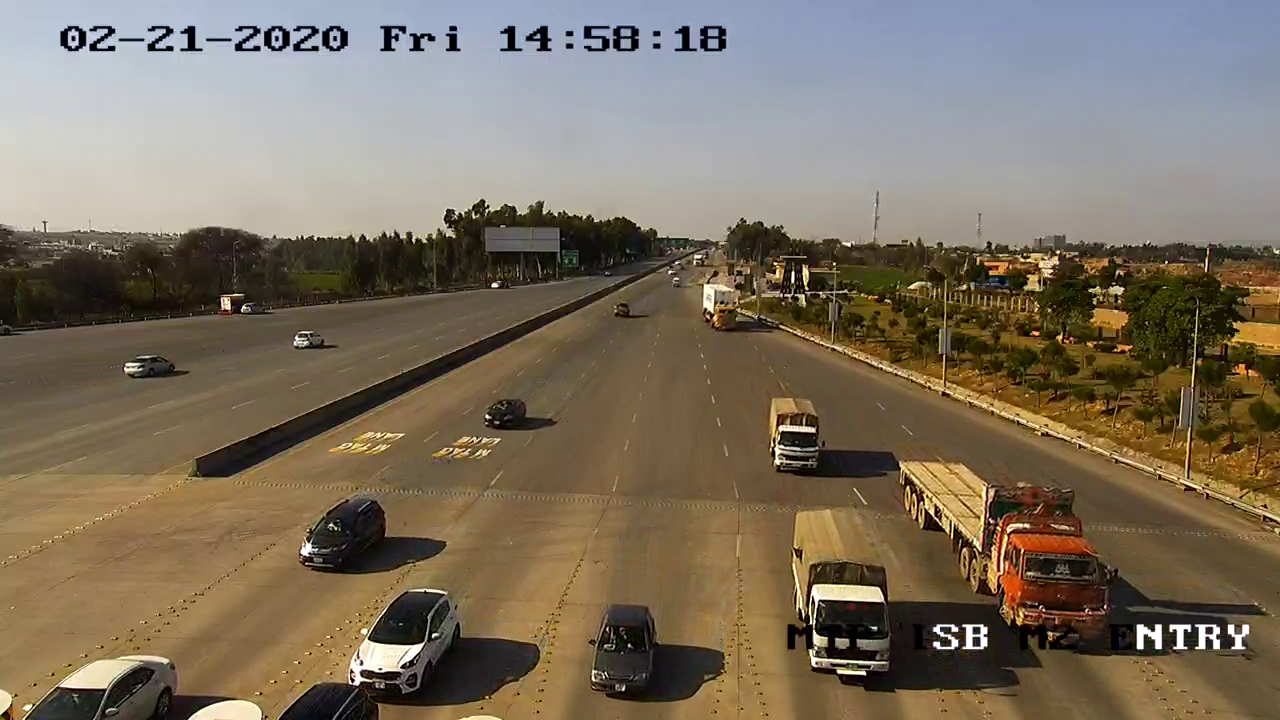f1: (337, 578, 469, 708), (278, 487, 395, 580), (574, 594, 670, 706)
f5: (769, 496, 903, 697), (762, 386, 835, 489)
f6: (892, 443, 1125, 646)
